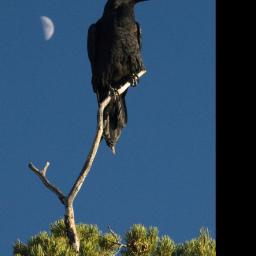Crow: (86, 0, 156, 158)
